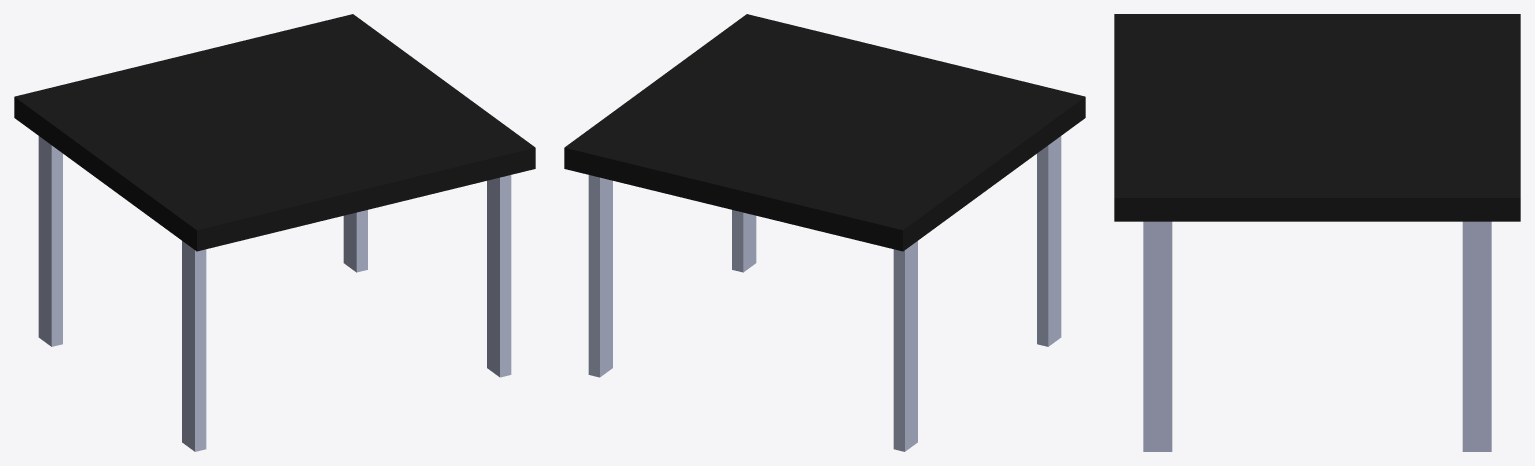
Rendered from Robot_base.glb.
3 views of the same model, side by side, from view 1: azimuth 30°, elevation 25°; view 2: azimuth 150°, elevation 25°; view 3: azimuth 270°, elevation 25° (orthographic). The views are drawn at different scales.
Parts seen in each view (by area): view 1: color, color-2; view 2: color, color-2; view 3: color, color-2.
Part boxes in pixels (x1,y1,x2,y2): color: [14, 14, 535, 251]; color-2: [38, 136, 511, 451]; color: [564, 14, 1085, 251]; color-2: [588, 136, 1061, 451]; color: [1114, 14, 1520, 221]; color-2: [1143, 221, 1491, 451].
Bounding box in the file's own units: 0.375 × 0.2475 × 0.35.
